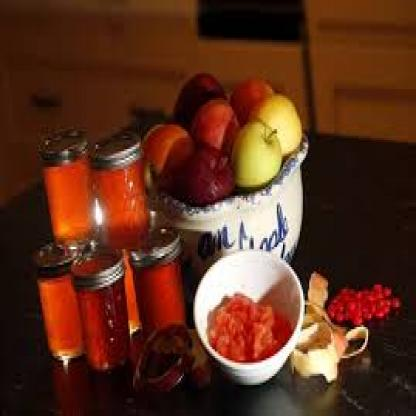Disposable tableware: (155, 71, 318, 223), (298, 256, 394, 387), (216, 287, 284, 371)
